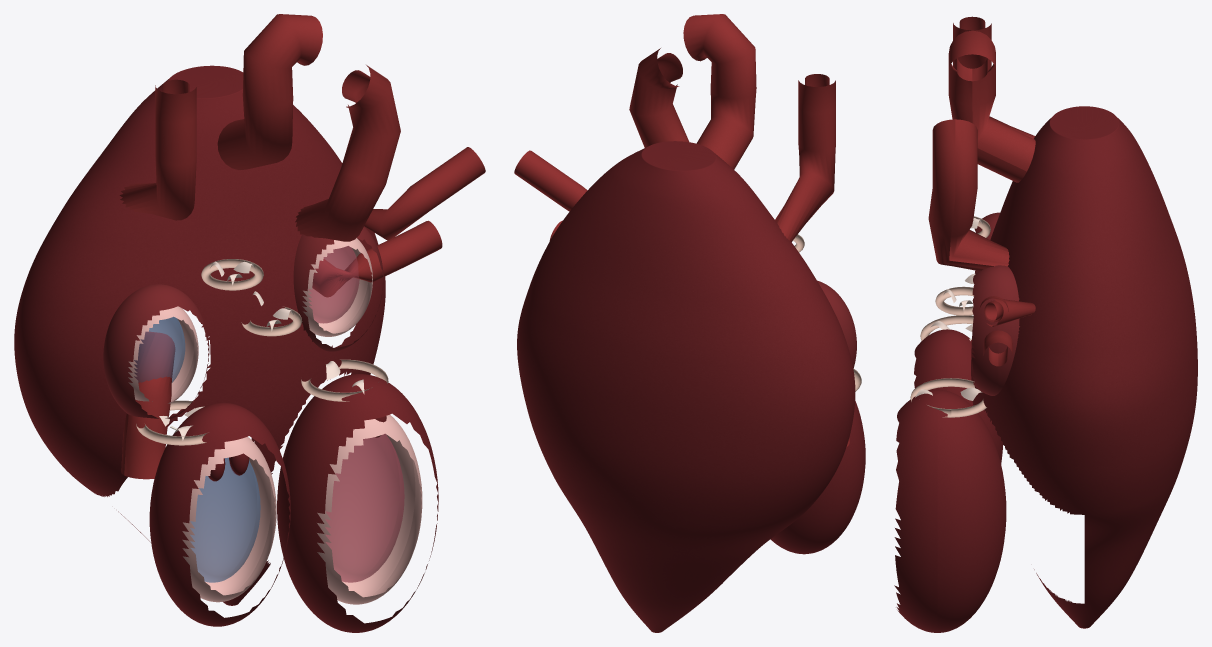
File: heart_segmented_pulmonary_leaky.glb
3 views of the same model, side by side, from view 1: azimuth 30°, elevation 25°; view 2: azimuth 150°, elevation 25°; view 3: azimuth 270°, elevation 25° (orthographic). The views are drawn at different scales.
Visible parts, largest first — view 1: HeartBody, WallLV, WallRV, Aorta, PulmonaryTrunk, BloodLV, WallRA, SVC, BloodRV, WallLA, IVC, PulmonaryVeinL (+7 smaller); view 2: HeartBody, Aorta, SVC, WallRV, PulmonaryTrunk, PulmonaryVeinL, WallRA; view 3: HeartBody, WallLV, PulmonaryTrunk, Aorta, WallLA, WallRV, PulmonaryVeinL, AnnulusMitral, SVC, PulmonaryVeinR, AnnulusPulmonary, AnnulusTricuspid.
Boxes of the visible parts, x1,y1,x2,y2 form: HeartBody: (14,65,385,605); WallLV: (277,374,438,632); WallRV: (149,402,290,626); Aorta: (217,14,322,169); PulmonaryTrunk: (295,65,400,241); BloodLV: (325,434,404,582); WallRA: (103,284,209,419); SVC: (119,79,196,220); BloodRV: (190,457,260,582); WallLA: (293,226,383,351); IVC: (121,331,175,479); PulmonaryVeinL: (364,147,485,240); HeartBody: (517,141,855,632); Aorta: (683,14,756,169); SVC: (775,74,835,242); WallRV: (770,401,865,554); PulmonaryTrunk: (629,48,689,147); PulmonaryVeinL: (514,150,587,211); WallRA: (817,280,856,368); HeartBody: (971,106,1197,628); WallLV: (894,389,1006,632); PulmonaryTrunk: (928,119,1009,271); Aorta: (948,30,1035,182); WallLA: (971,265,1019,395); WallRV: (914,329,1002,464); PulmonaryVeinL: (979,296,1035,326); AnnulusMitral: (910,378,986,417); SVC: (953,16,1035,138); PulmonaryVeinR: (983,330,1012,366); AnnulusPulmonary: (935,286,973,315); AnnulusTricuspid: (920,315,973,340).
Bounding box in the file's own units: 0.1023 × 0.1514 × 0.0705.
9 materials, 3 textured.
